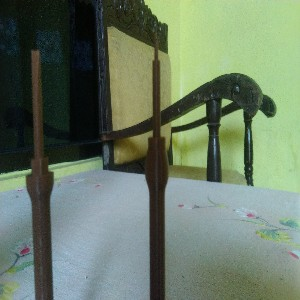obeng: (24, 48, 55, 300)
solder: (144, 26, 169, 300)
